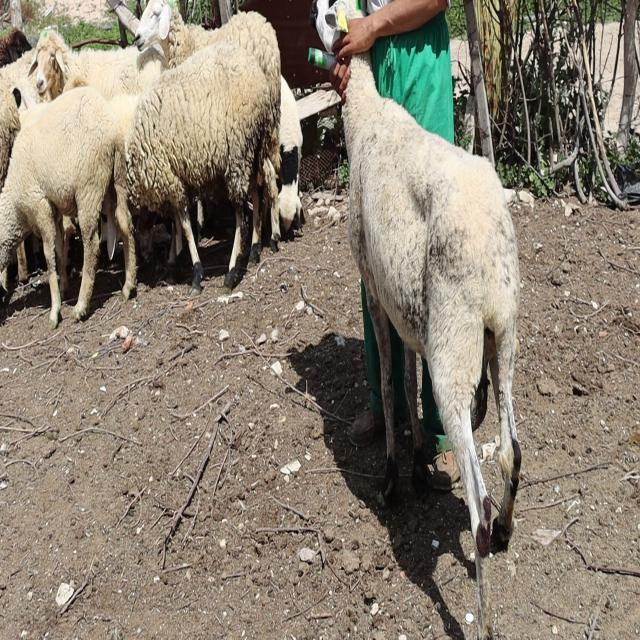Score_3: (342, 53, 521, 639)
